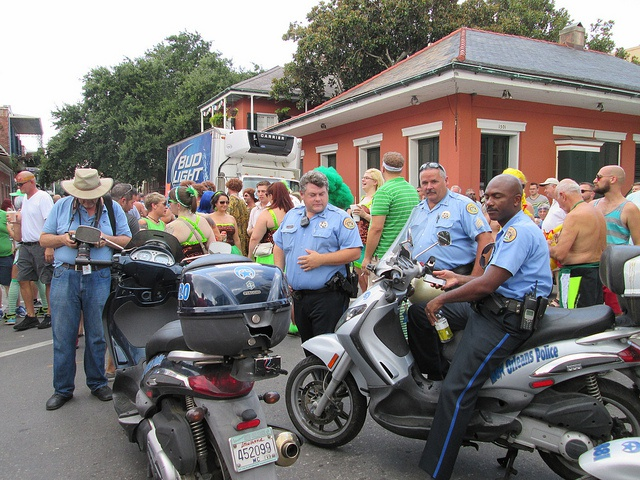non-vehicle: (281, 234, 640, 472), (70, 226, 296, 470)
